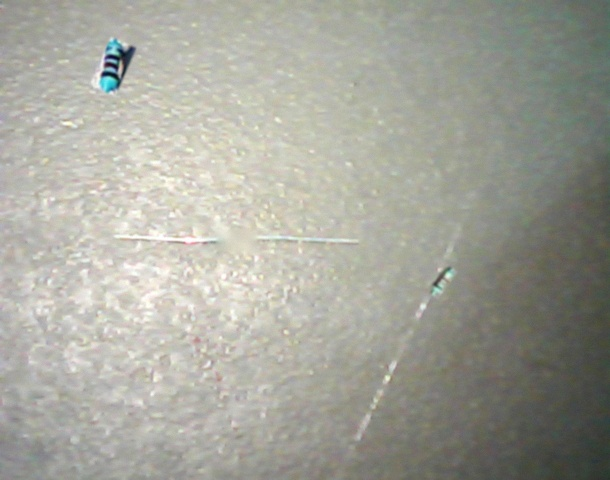resistor: (90, 37, 136, 96), (427, 264, 457, 299)
